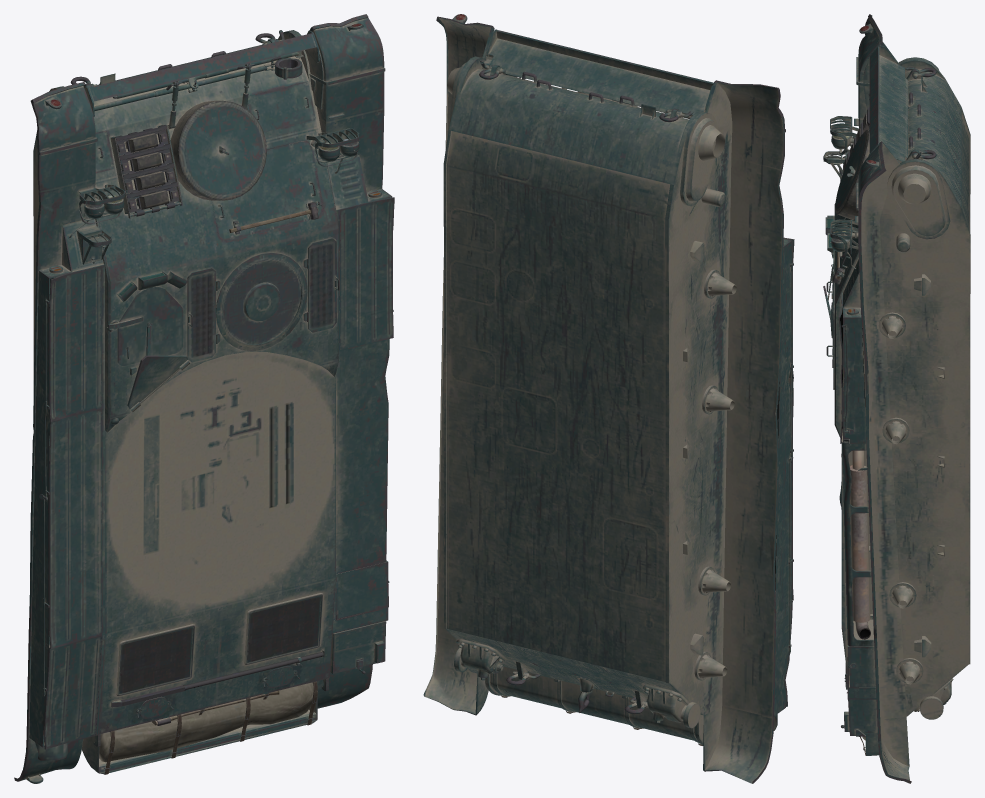
The model's file is Hull.glb.
3 views of the same model, side by side, from view 1: azimuth 30°, elevation 25°; view 2: azimuth 150°, elevation 25°; view 3: azimuth 270°, elevation 25° (orthographic). The views are drawn at different scales.
Visible parts, largest first — view 1: set_0_group_0; view 2: set_0_group_0; view 3: set_0_group_0.
Boxes of the visible parts, bbox=[...] form: set_0_group_0: bbox=[14, 14, 394, 783]; set_0_group_0: bbox=[423, 14, 794, 783]; set_0_group_0: bbox=[823, 14, 970, 783].
Bounding box in the file's own units: 2.57 × 4.9 × 1.04.
1 material, 1 textured.
